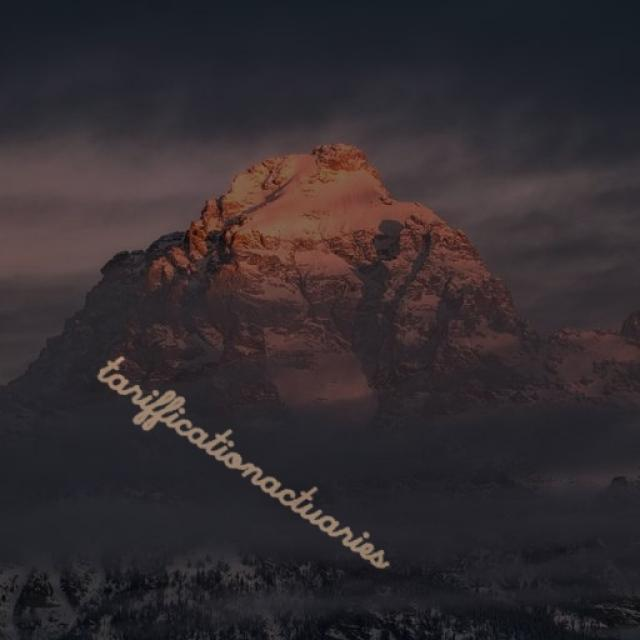watermark: (88, 345, 414, 578)
